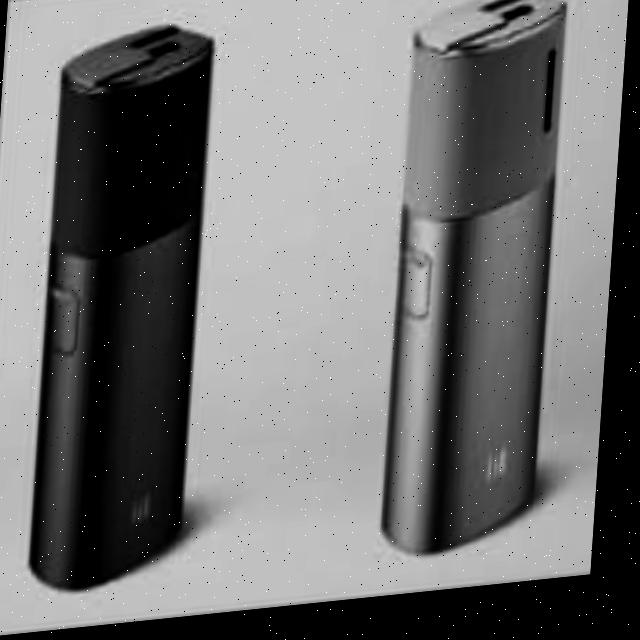vape: (378, 0, 575, 570), (36, 19, 217, 596)
